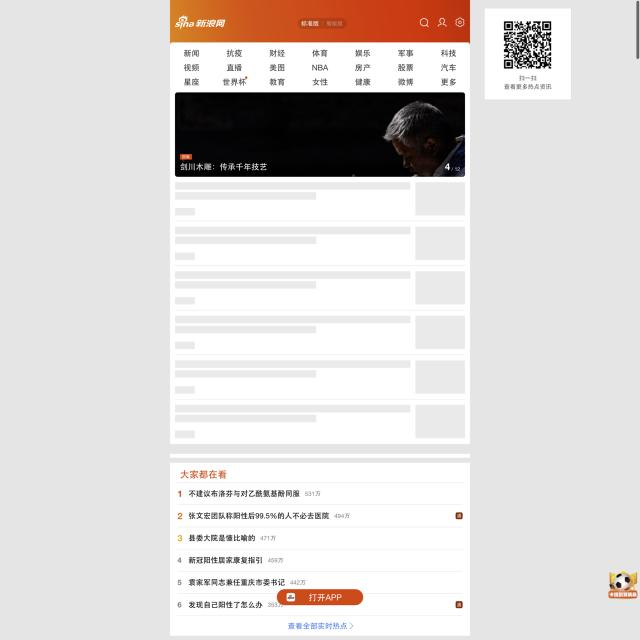logo: (173, 11, 229, 34)
navigation: (171, 42, 470, 91)
